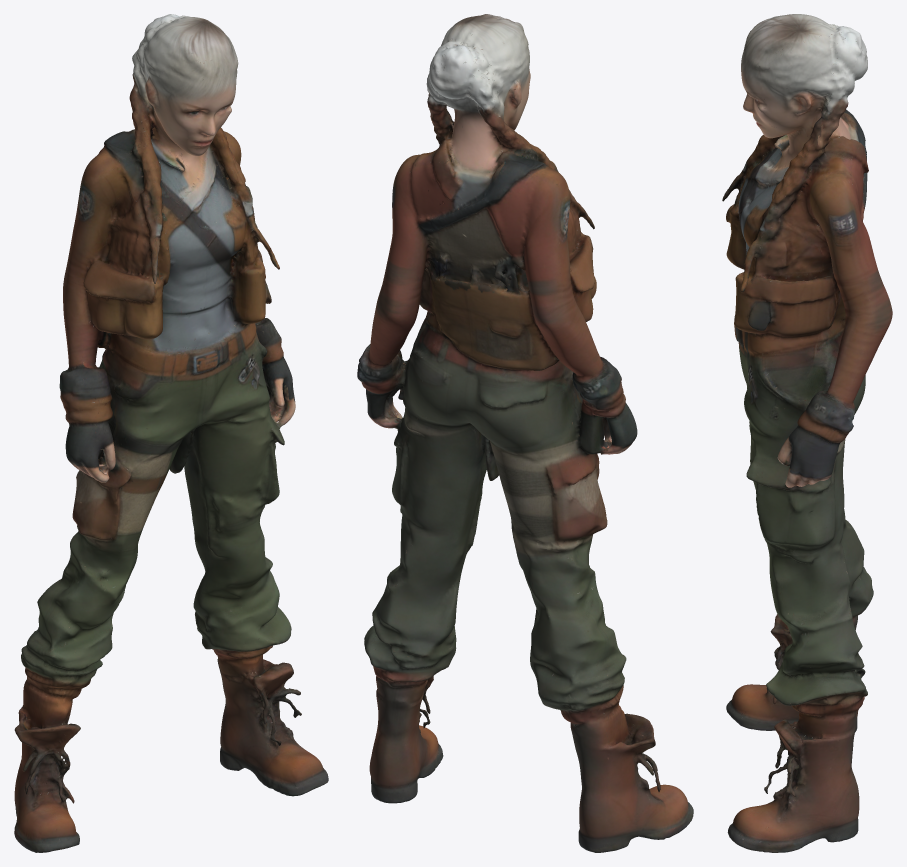
Rendered from weapon_npc.fbx.
3 views of the same model, side by side, from view 1: azimuth 30°, elevation 25°; view 2: azimuth 150°, elevation 25°; view 3: azimuth 270°, elevation 25° (orthographic).
Visible parts, largest first — view 1: Mesh_0; view 2: Mesh_0; view 3: Mesh_0.
Part boxes in pixels (<box>): Mesh_0: <box>14,14,328,852</box>; Mesh_0: <box>357,14,693,852</box>; Mesh_0: <box>722,14,892,852</box>.
Bounding box in the file's own units: 81.2 × 200 × 39.68.
Materials: 1 (1 with a texture image).
